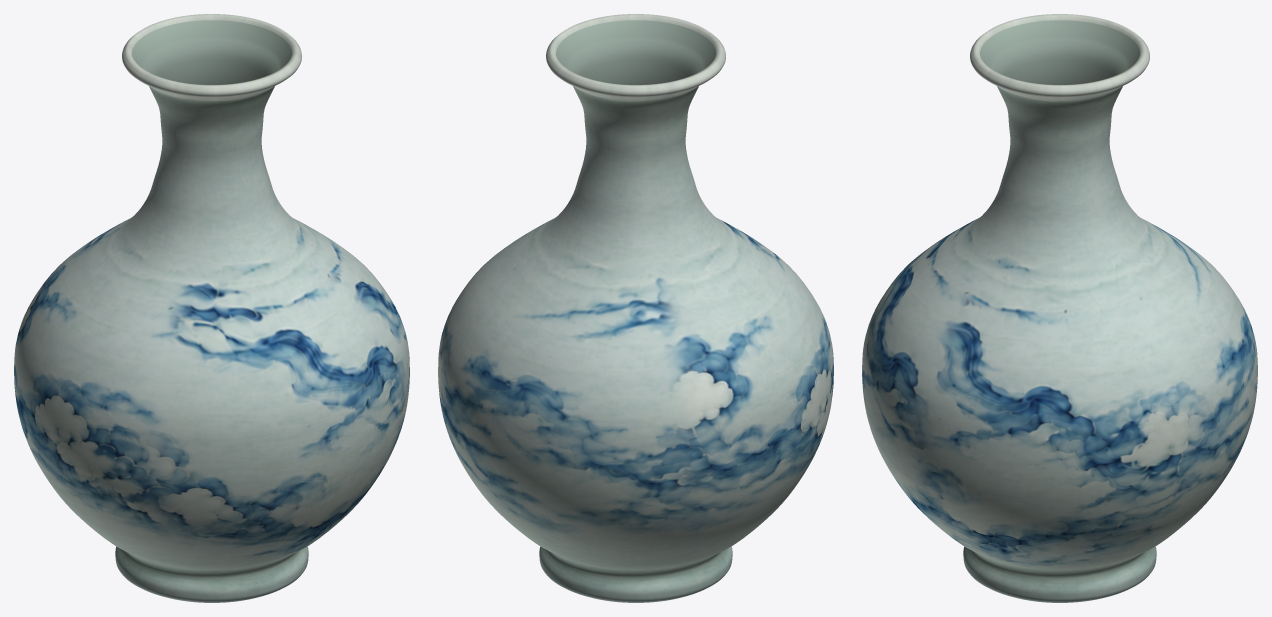
Rendered from celadon-vase.glb.
3 views of the same model, side by side, from view 1: azimuth 30°, elevation 25°; view 2: azimuth 150°, elevation 25°; view 3: azimuth 270°, elevation 25° (orthographic).
Parts seen in each view (by area): view 1: Celadon_Vase; view 2: Celadon_Vase; view 3: Celadon_Vase.
Boxes of the visible parts, x1=… form: Celadon_Vase: x1=14, y1=14, x2=409, y2=602; Celadon_Vase: x1=438, y1=14, x2=833, y2=602; Celadon_Vase: x1=862, y1=14, x2=1257, y2=602.
Size of the model in its own units: 0.2065 by 0.3009 by 0.2065.
Materials: 2 (1 with a texture image).
